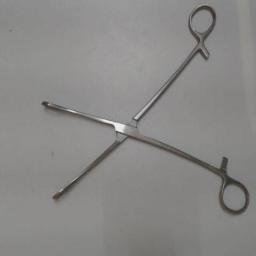Sponge Forceps: (40, 1, 252, 219)
